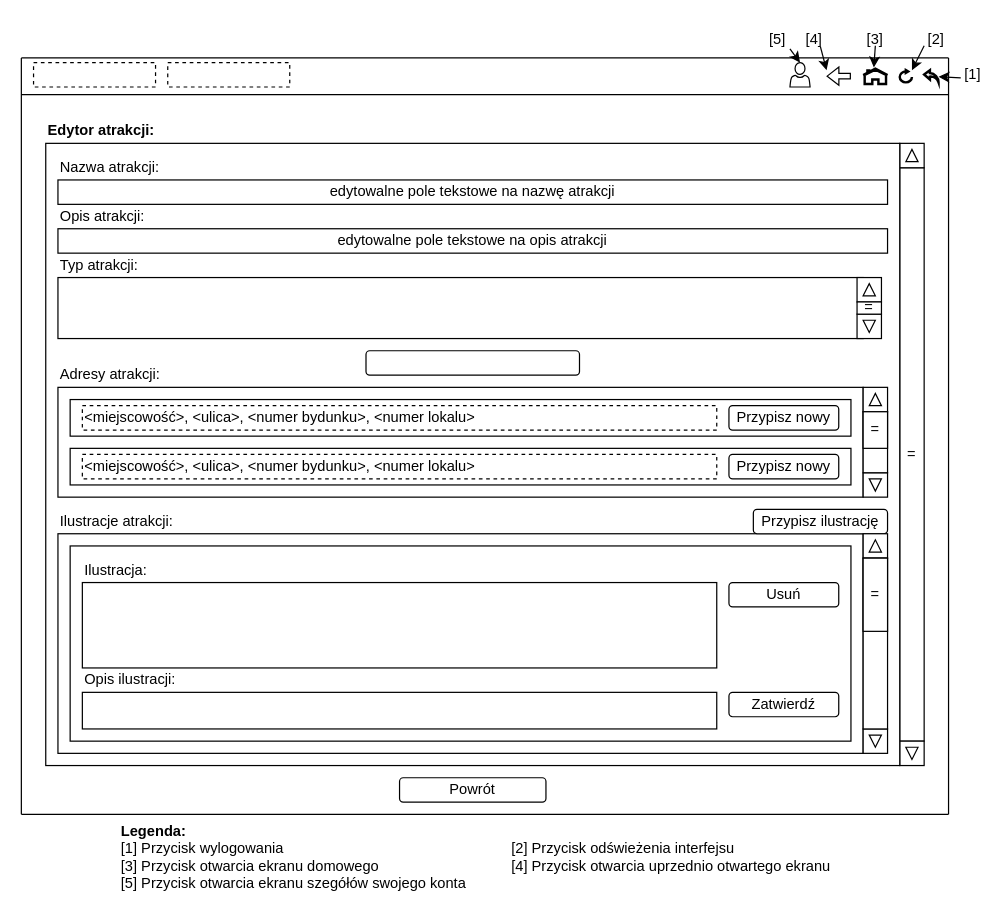
Some shapes in this 1007 by 920 pixel diagram are drawn without their labels. The centre of each missing label's shape, as x and y in pixels:
edytowalne pole tekstowe na opis ilustracji 1 z n: [399,710]
ilustracja 1 z n: [399,624]
lista wielokrotnego wyboru zawierająca typy atrakcji: [460,307]
login: [94,74]
rola: [228,74]
Zatwierdź dane podstawowe: [472,362]
